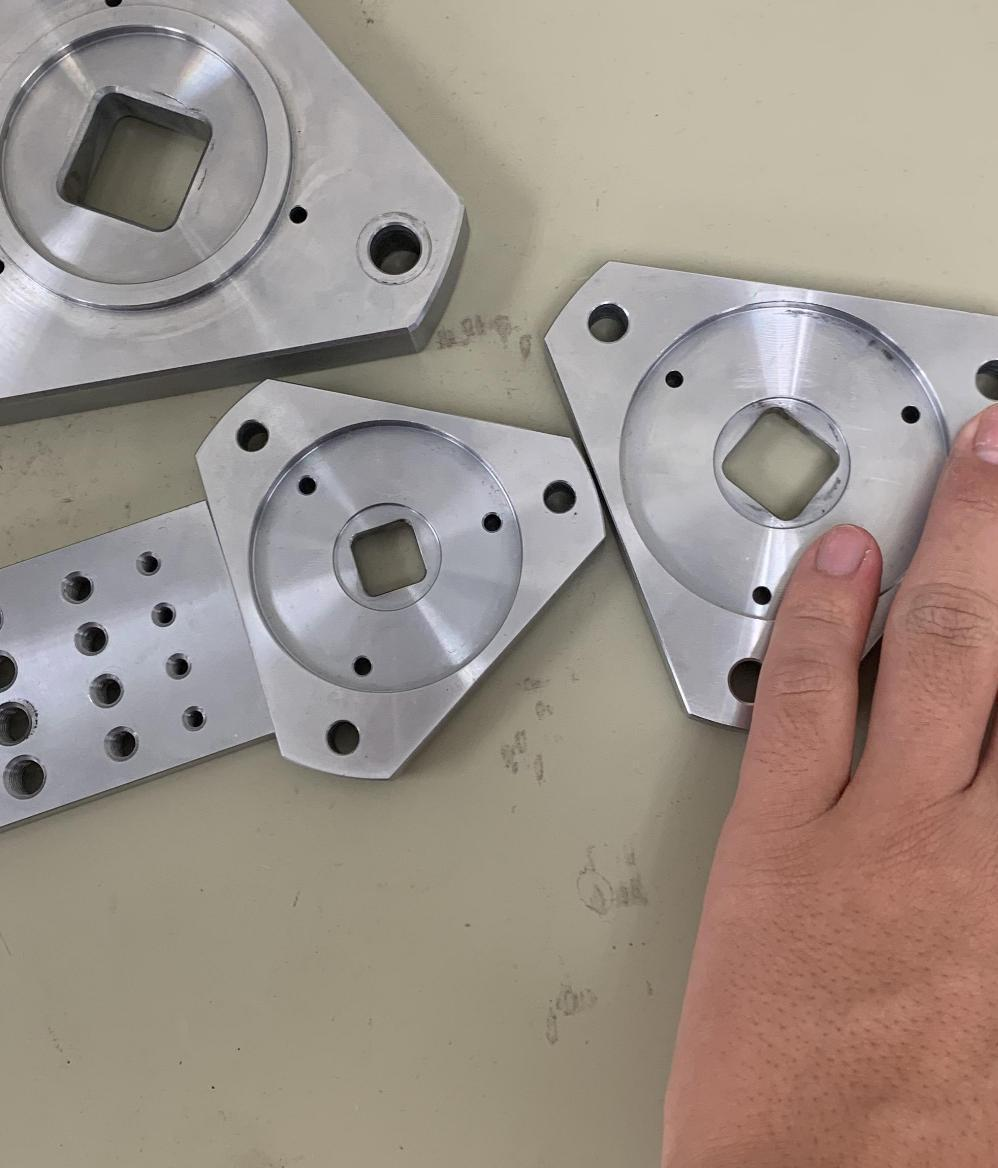hole: (356, 207, 434, 289), (316, 710, 370, 766), (0, 751, 57, 804), (52, 563, 108, 615), (583, 299, 635, 351), (715, 654, 760, 710), (0, 701, 48, 752), (226, 415, 282, 457), (532, 476, 585, 520), (84, 666, 125, 718), (67, 618, 111, 659), (99, 722, 141, 764), (965, 353, 998, 402), (158, 650, 200, 688), (337, 650, 383, 684), (0, 645, 29, 696), (288, 468, 328, 504), (472, 503, 508, 539), (146, 597, 184, 631), (178, 703, 216, 735), (134, 550, 166, 582), (0, 592, 17, 643), (650, 571, 682, 596), (899, 396, 923, 428), (748, 580, 774, 609), (663, 366, 685, 392)
